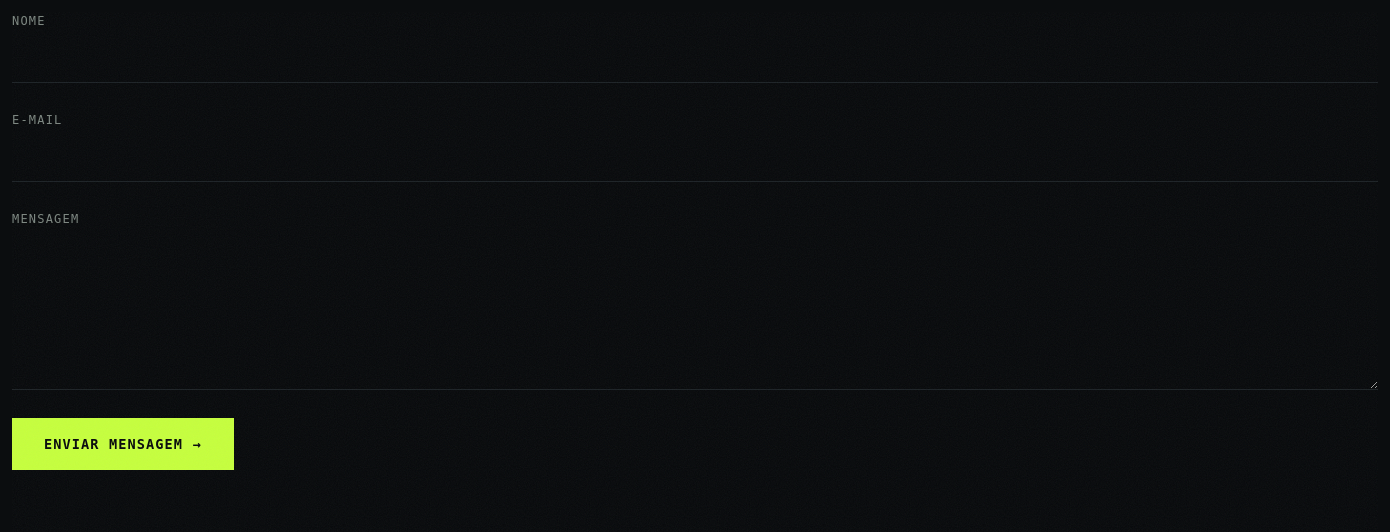
Test: FormularioContato › envia os dados para o Formspree, avisa o envio e limpa os campos
Type "Ana Souza" into the field labelled "Nome". click: x=695, y=59
box: [12, 35, 1378, 83]
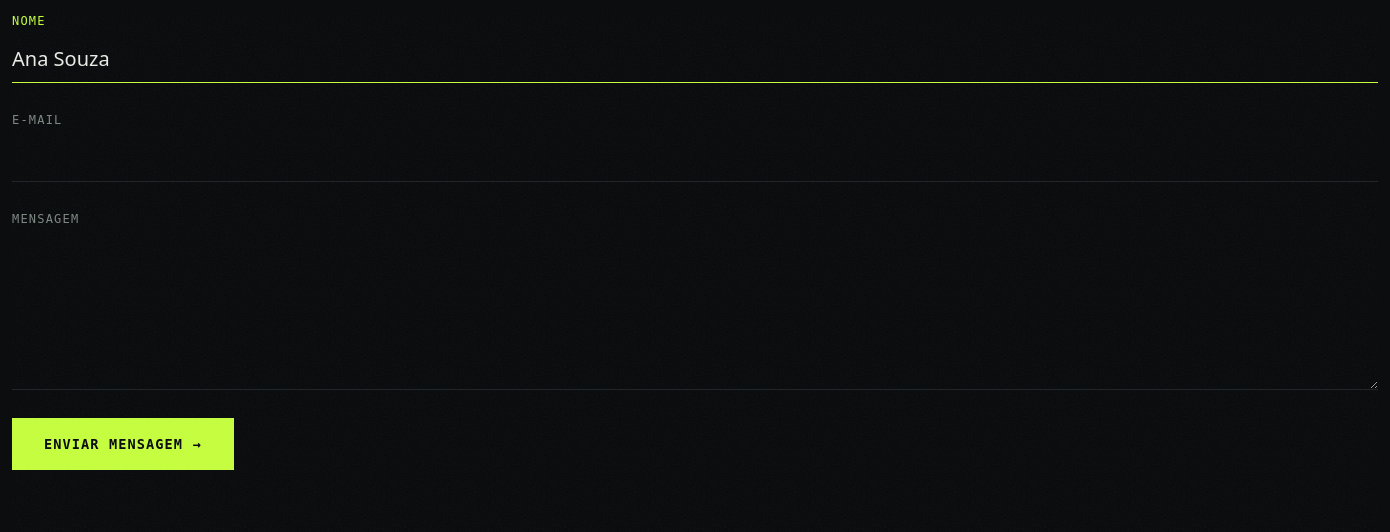
Type "ana@empresa.com" into the field labelled "E-mail". click: x=695, y=158
box: [12, 134, 1378, 182]
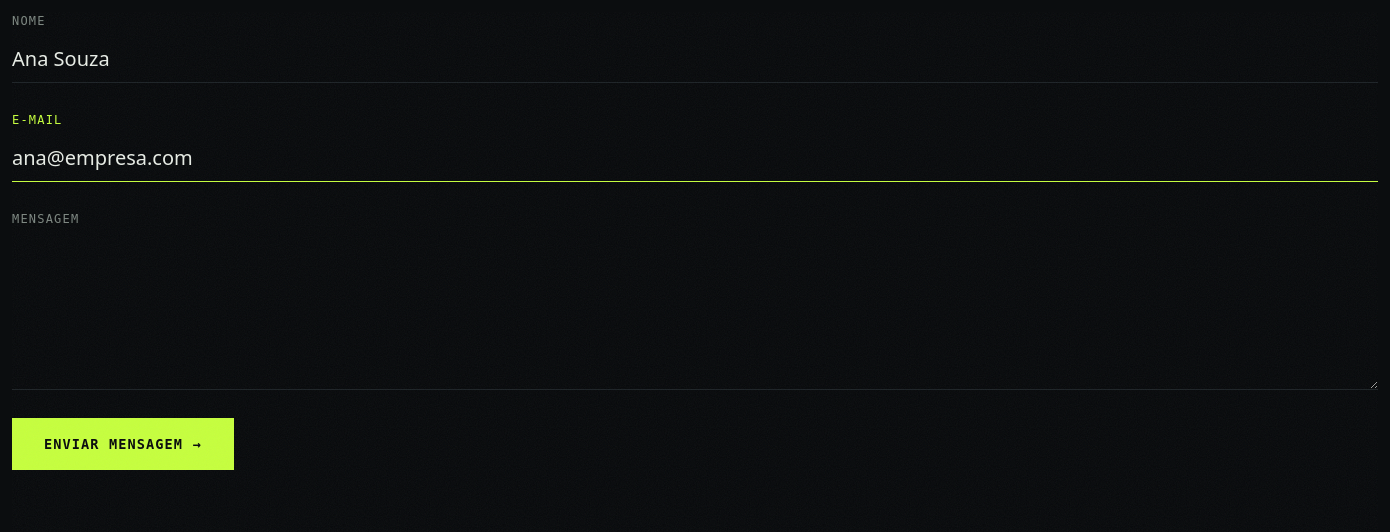
Type "Olá! Vamos conversar?" into the text box labelled "Mensagem". click: x=695, y=312
box: [12, 234, 1378, 390]
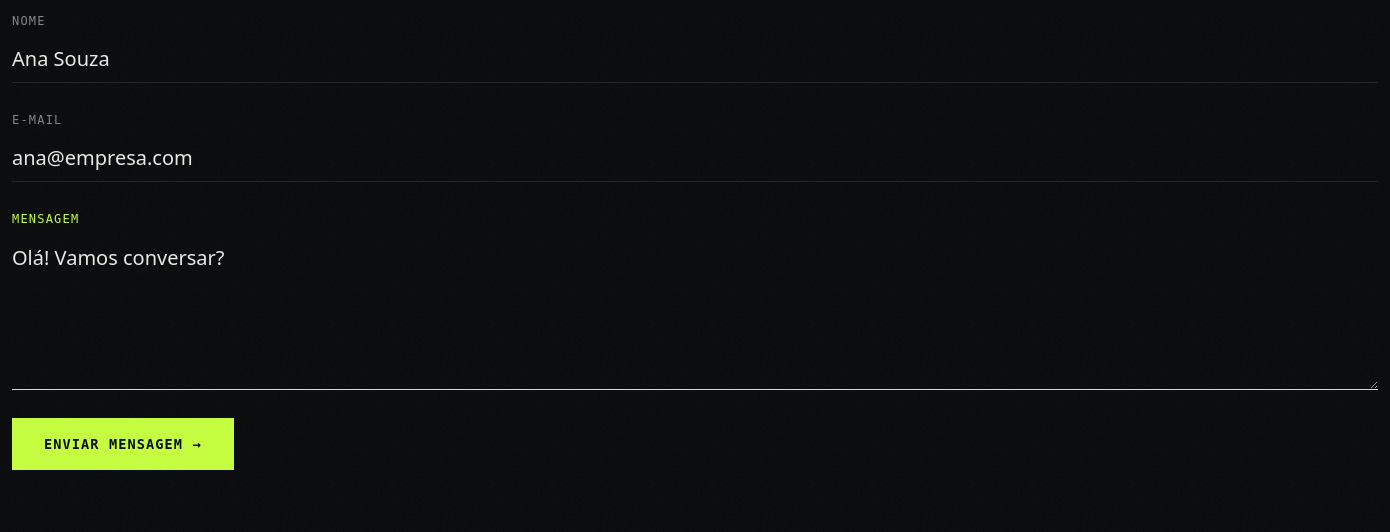
Click the button "Enviar mensagem →". click: x=123, y=444
box: [12, 418, 234, 470]
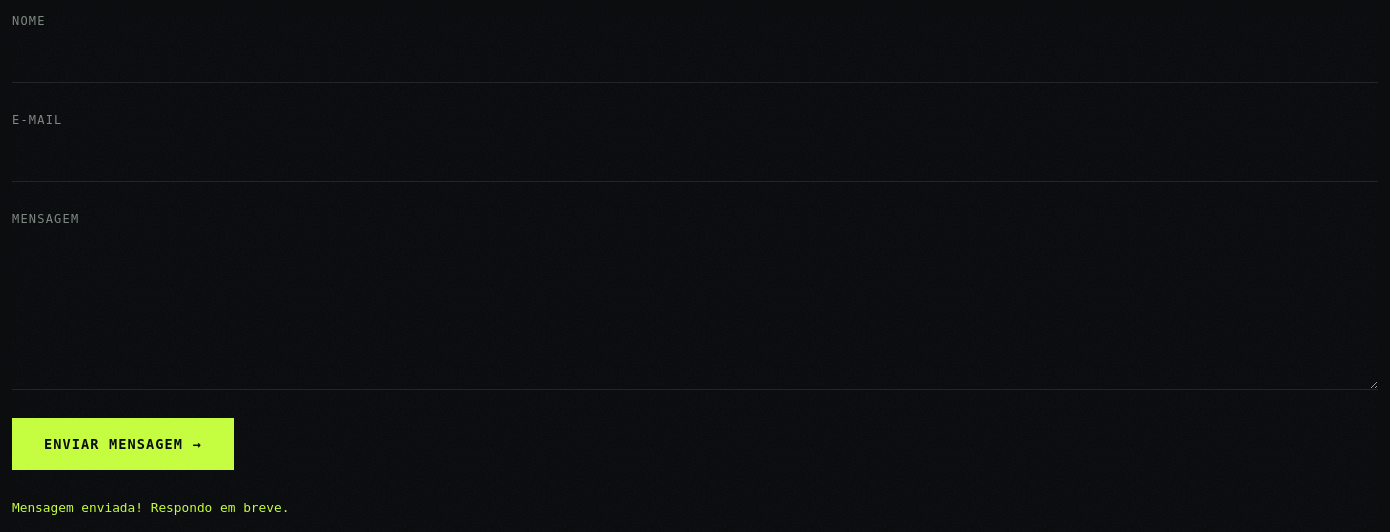
Expected: the text "Mensagem enviada! Respondo em breve." is shown, [12, 500, 289, 515]
Expected: the field labelled "Nome" is empty, [12, 35, 1378, 83]
Expected: the field labelled "E-mail" is empty, [12, 134, 1378, 182]
